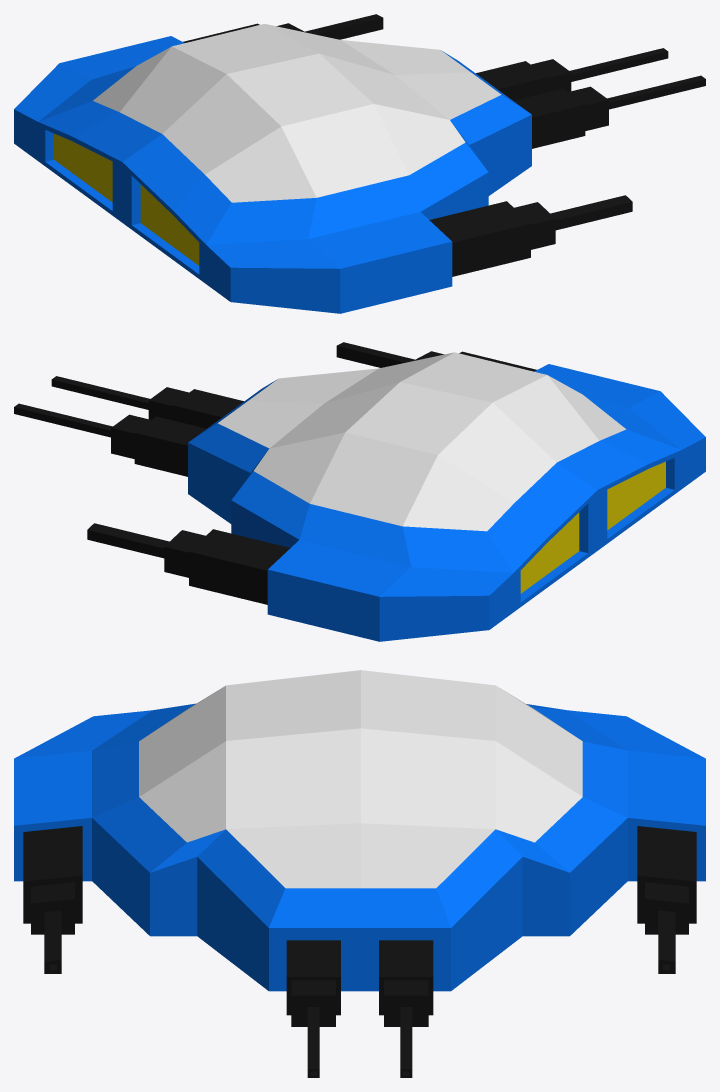
The model's file is PlayerDrone.fbx.
3 renders of one model, top to bottom at view 1: azimuth 30°, elevation 25°; view 2: azimuth 150°, elevation 25°; view 3: azimuth 270°, elevation 25°, orthographic. The views are drawn at different scales.
Visible parts, largest first — view 1: Glass; view 2: Glass; view 3: Glass.
Boxes of the visible parts, box(x1,y1,x2,y2) form: Glass: box(14, 14, 705, 313); Glass: box(14, 342, 705, 641); Glass: box(14, 670, 705, 1077).
Bounding box in the file's own units: 614 × 164 × 531.
